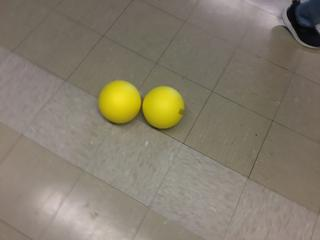power_cell: (141, 84, 186, 131), (96, 80, 142, 124)
